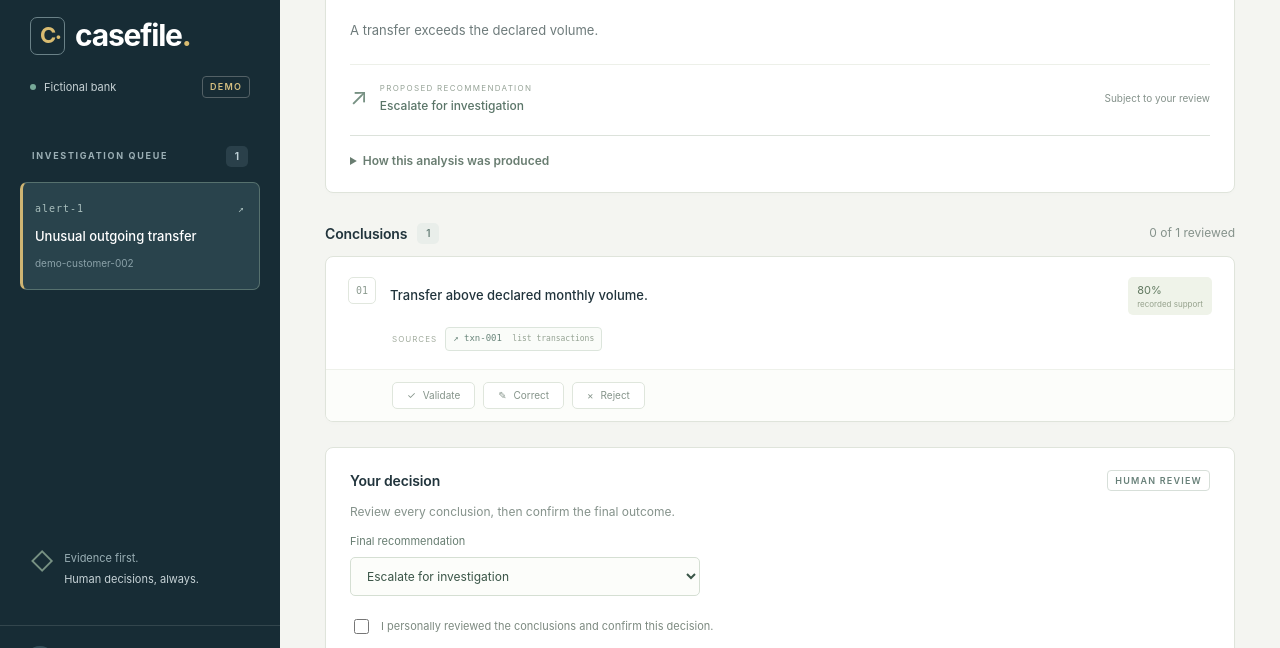
Scenario: investigation history › ignores a source response from a run that is no longer selected
(page scrolled)
Click the button "↗ txn-001 list transactions".
click(524, 339)  # box top-left (445, 327), bottom-right (602, 351)
(page scrolled)
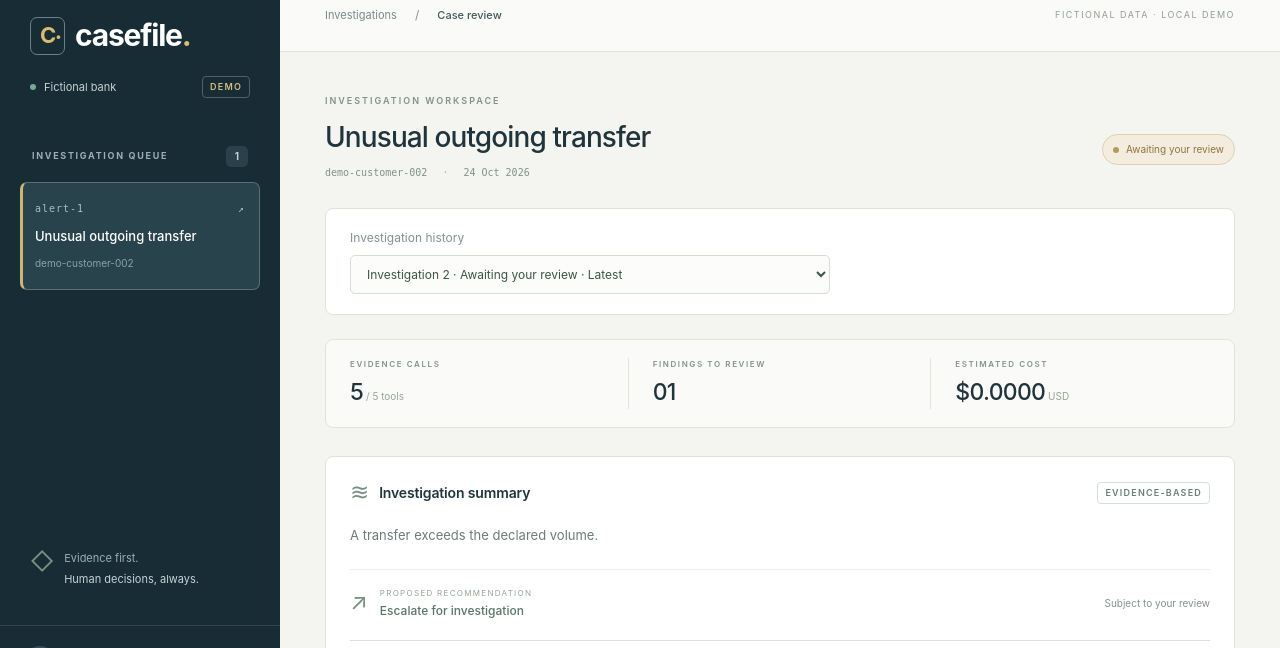
Select "Investigation 1 · Review complete" in the dropdown labelled "Investigation history" at (590, 274), box top-left (350, 254), bottom-right (830, 294)
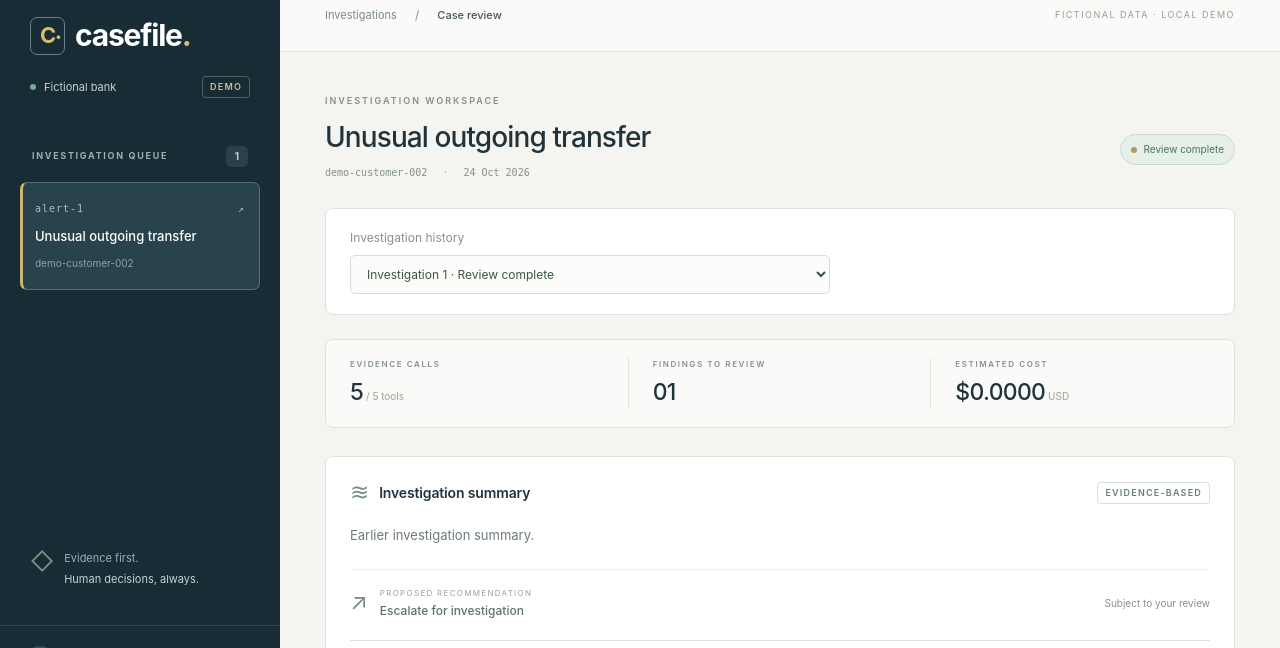
Check: the text "Earlier investigation summary." is shown, box top-left (350, 527), bottom-right (534, 543)
